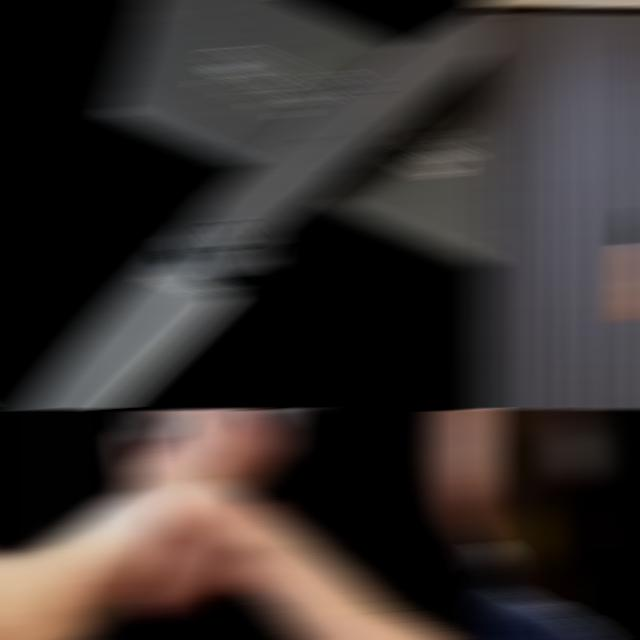Knife: (19, 4, 494, 408)
Knife_Handle: (136, 410, 474, 490)
